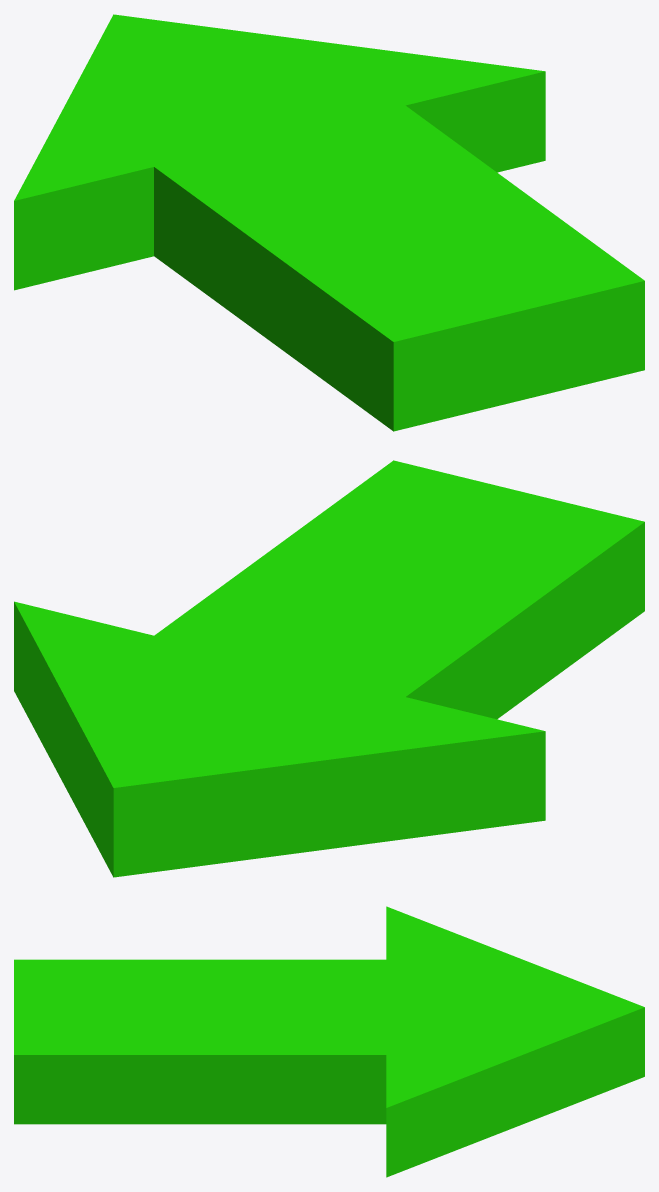
The model's file is Arrow.dae.
3 renders of one model, top to bottom at view 1: azimuth 30°, elevation 25°; view 2: azimuth 150°, elevation 25°; view 3: azimuth 270°, elevation 25°, orthographic. The views are drawn at different scales.
Parts seen in each view (by area): view 1: Arrow; view 2: Arrow; view 3: Arrow.
Part boxes in pixels (<box>): Arrow: <box>14,14,644,431</box>; Arrow: <box>14,460,644,877</box>; Arrow: <box>14,906,644,1177</box>.
Size of the model in its own units: 0.1555 by 0.2056 by 0.025.
